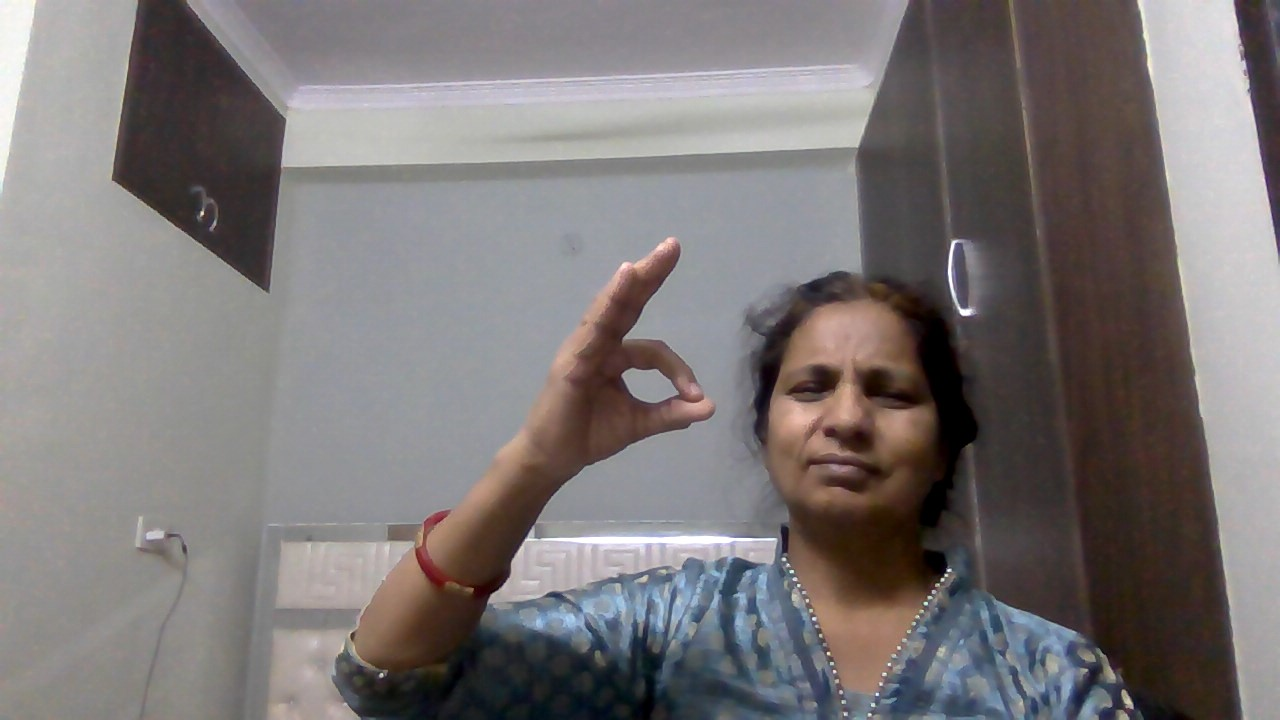Copy: (503, 229, 724, 508)
